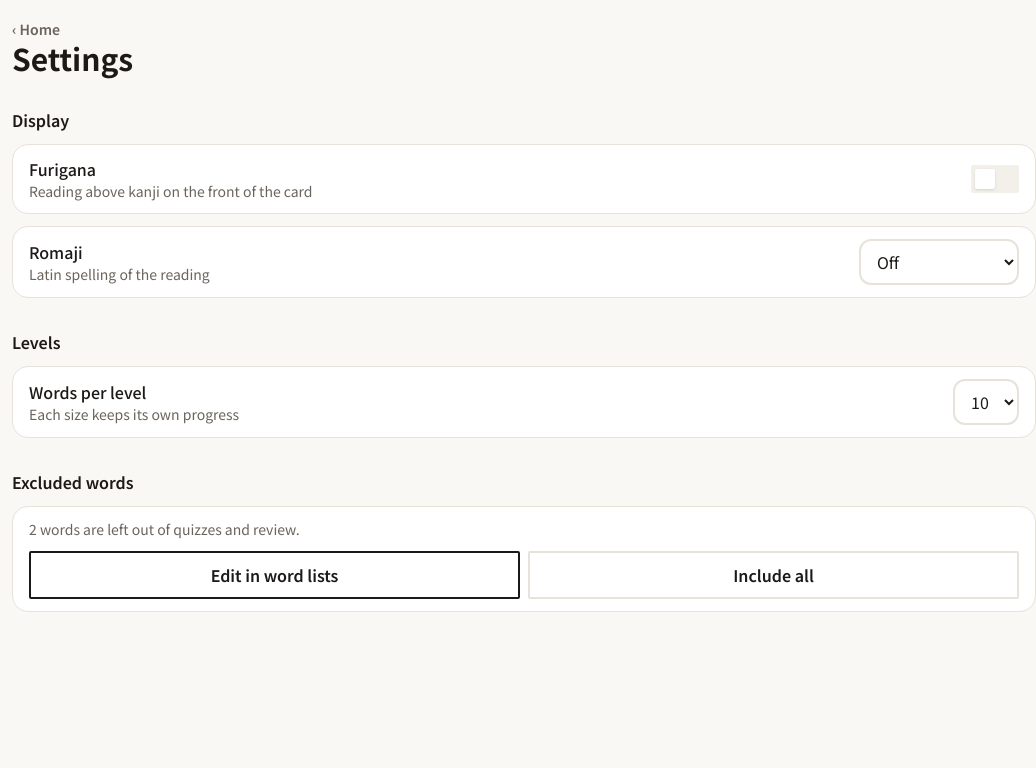
Scenario: Settings › shows the excluded count and includes everything again
Expected: the text "2 words are left out of quizzes and review." is shown, [29, 519, 300, 539]
Click the button "Include all". click: (774, 575)
box: [528, 551, 1019, 599]
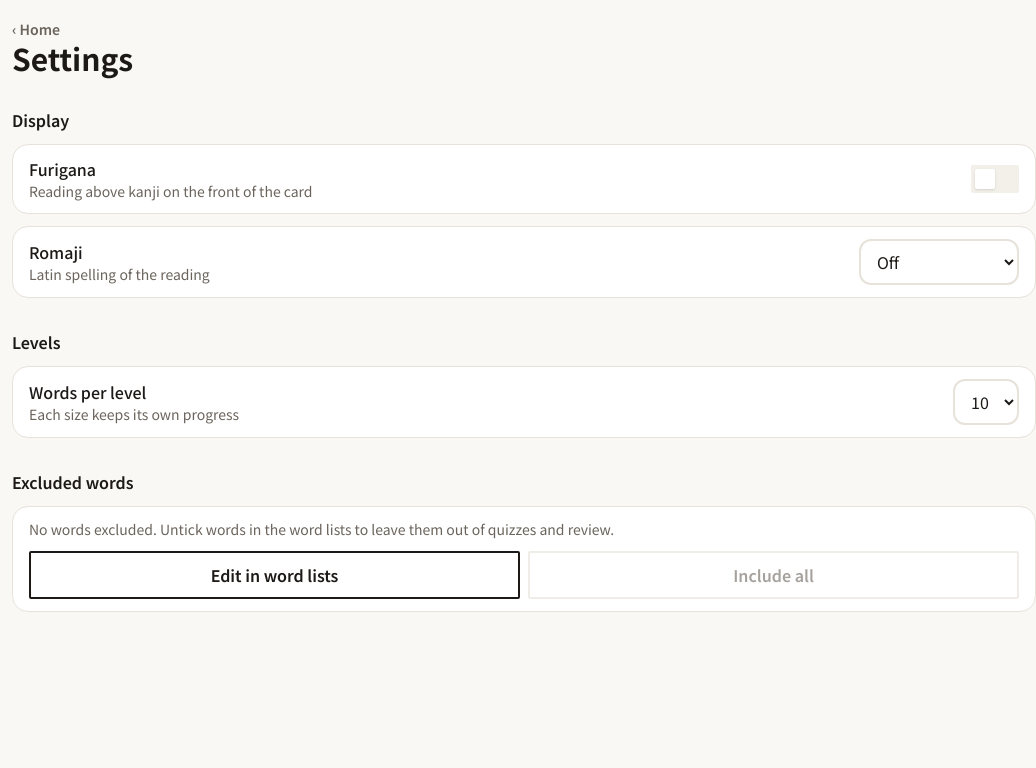
Now the button "Include all" is disabled, box [528, 551, 1019, 599]
